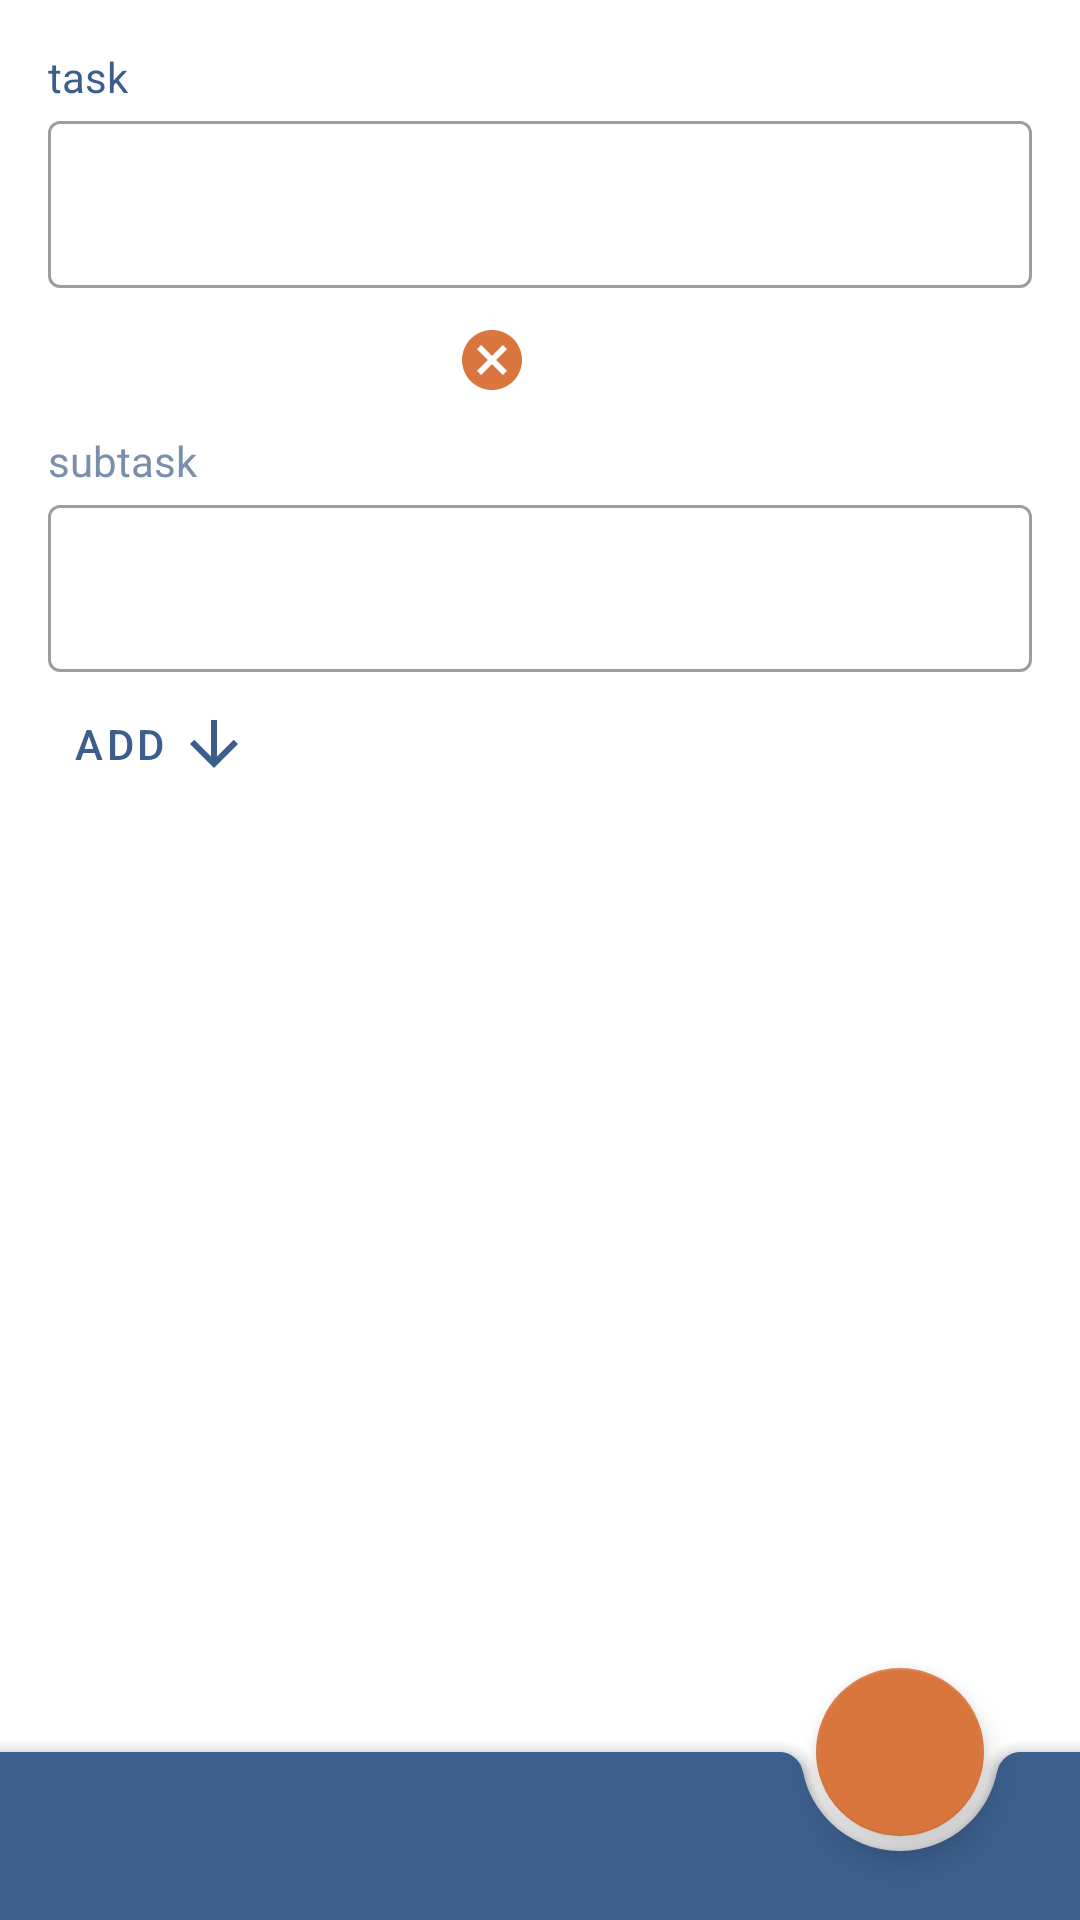

Where icons sit on this 1080px x 1920px app screen, as (x1,y1,x2,y2):
cancel: (462,330,522,390)
